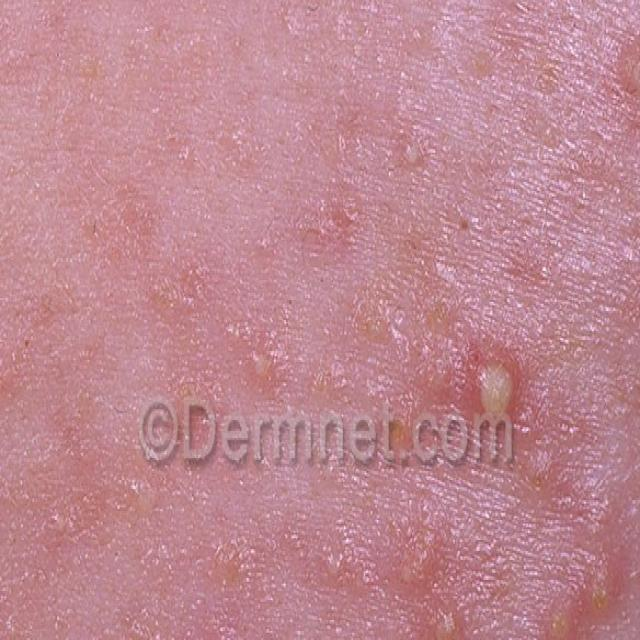Acne: (429, 235, 556, 497), (43, 500, 275, 640), (533, 549, 625, 640), (238, 321, 303, 412), (395, 107, 448, 205), (424, 576, 491, 640), (612, 33, 640, 131)
